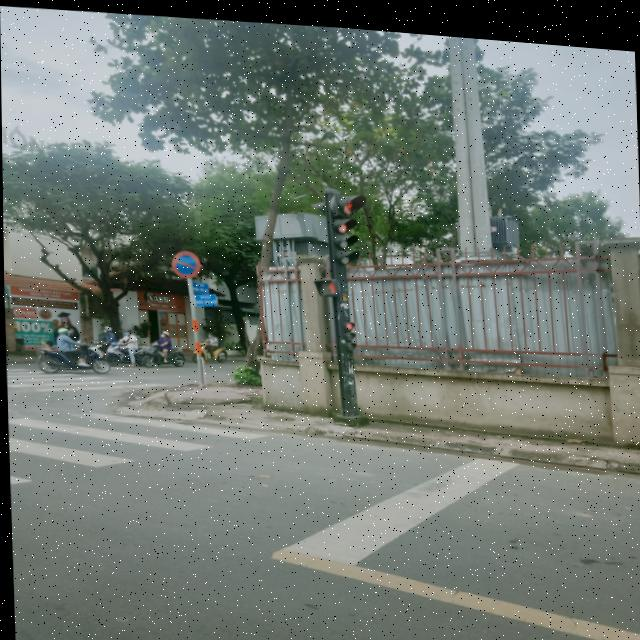Red: (326, 207, 355, 266), (335, 309, 359, 350)
